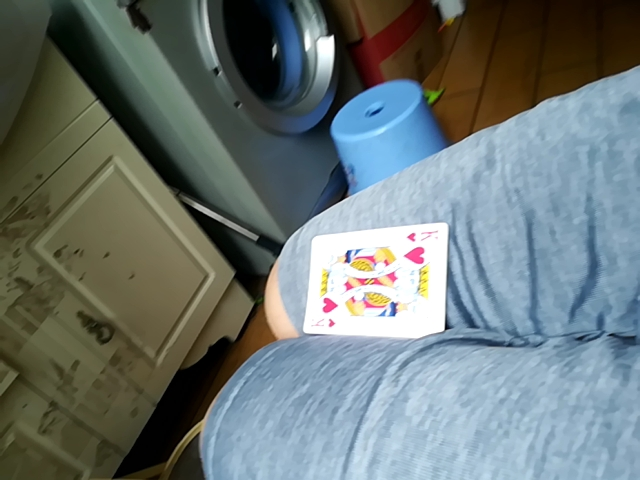hx k: (295, 218, 449, 336)
